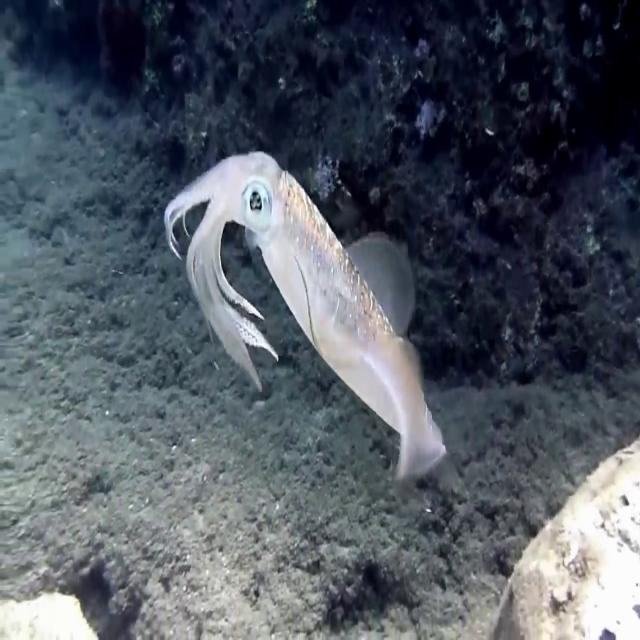SQUID: (145, 122, 465, 520)
